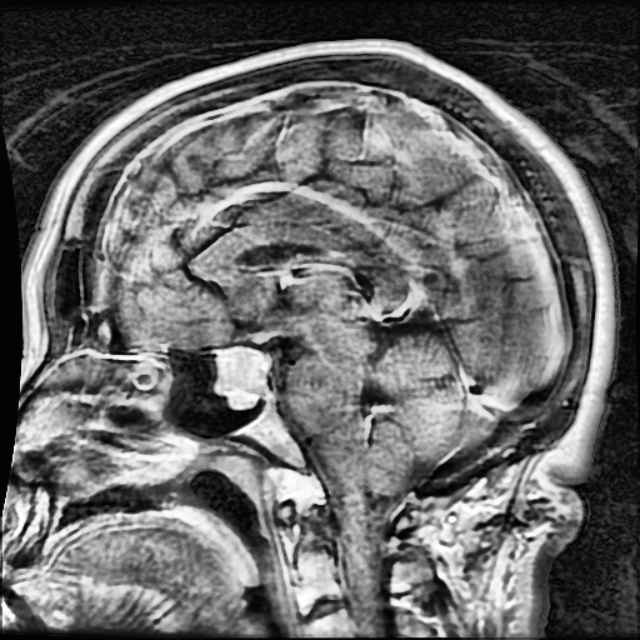Pituitary: (215, 347, 268, 408)
